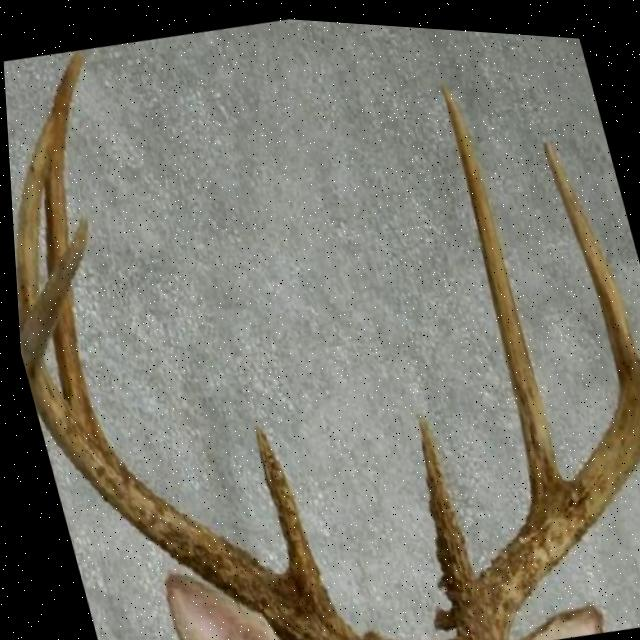L-F: (425, 351, 640, 640)
L-G1: (413, 408, 471, 597)
L-G2: (439, 77, 562, 502)
L-G3: (542, 135, 637, 377)
R-F: (15, 215, 356, 640)
R-G1: (248, 420, 322, 592)
